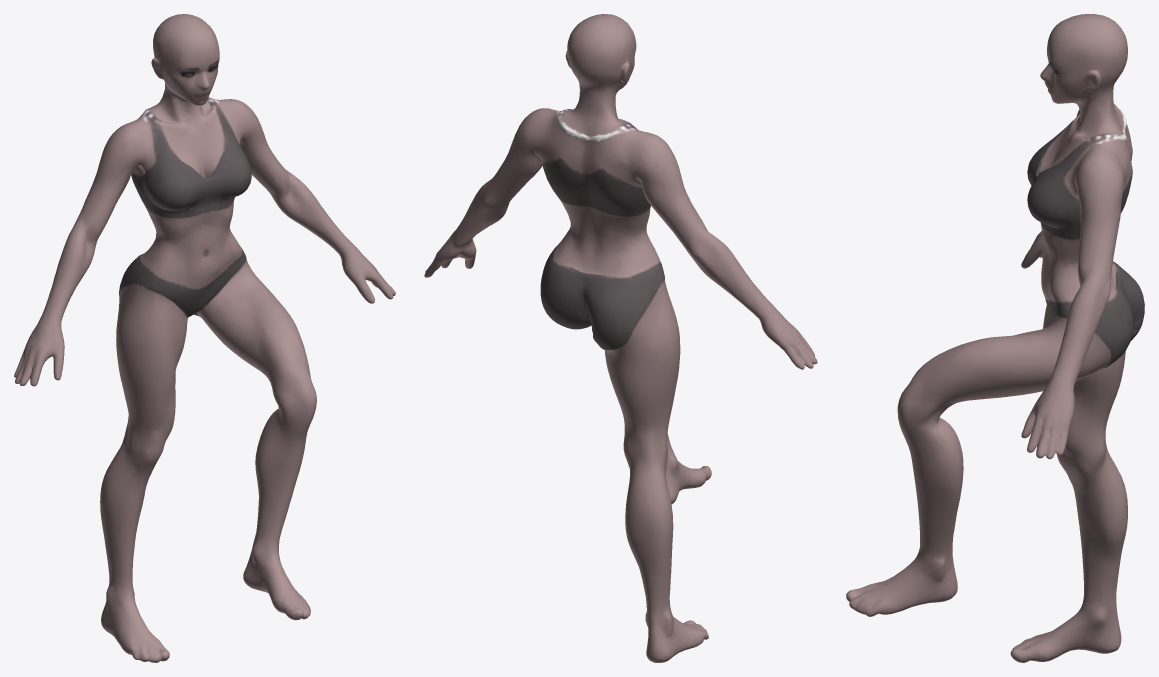
Rendered from 11-ThighR-60-child60-twist-20-baseline.glb.
3 views of the same model, side by side, from view 1: azimuth 30°, elevation 25°; view 2: azimuth 150°, elevation 25°; view 3: azimuth 270°, elevation 25° (orthographic). The views are drawn at different scales.
Parts seen in each view (by area): view 1: baseline; view 2: baseline; view 3: baseline.
Part boxes in pixels (<box>): baseline: <box>14,14,395,662</box>; baseline: <box>424,14,817,662</box>; baseline: <box>846,14,1144,662</box>.
Bounding box in the file's own units: 0.6509 × 1 × 0.403.
1 material, 1 textured.
